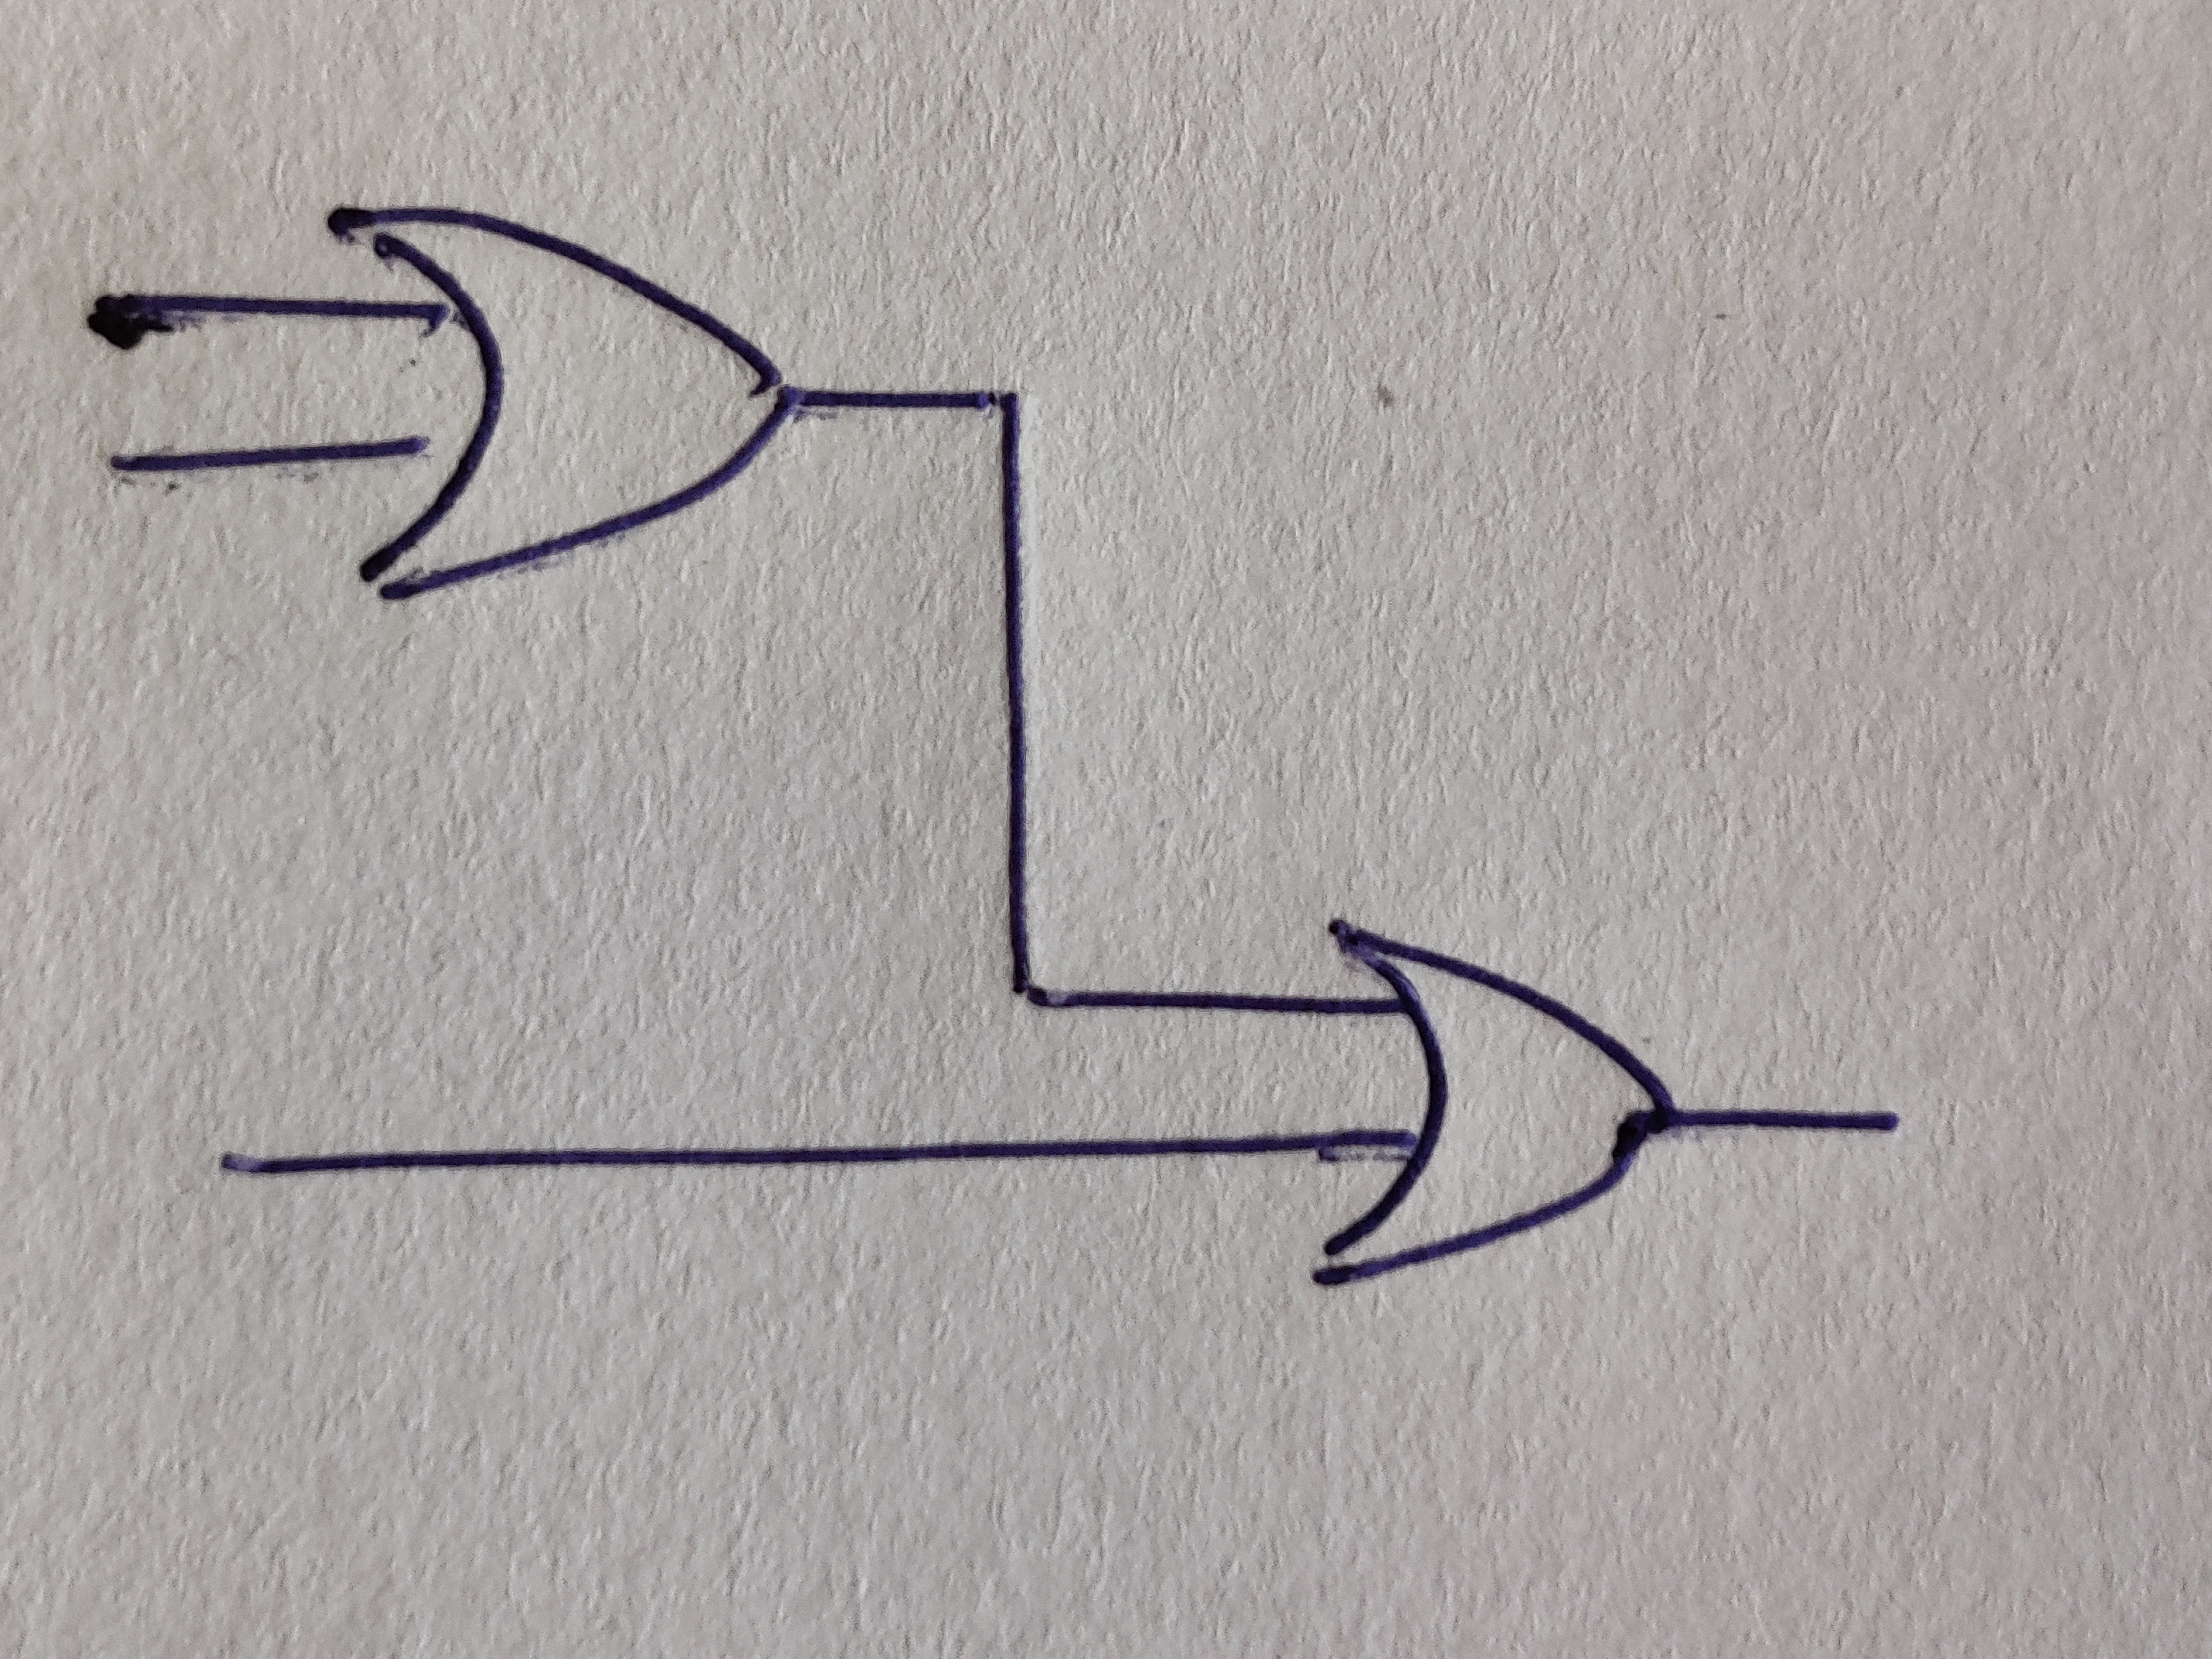or: (329, 204, 796, 603), (1312, 920, 1676, 1288)
